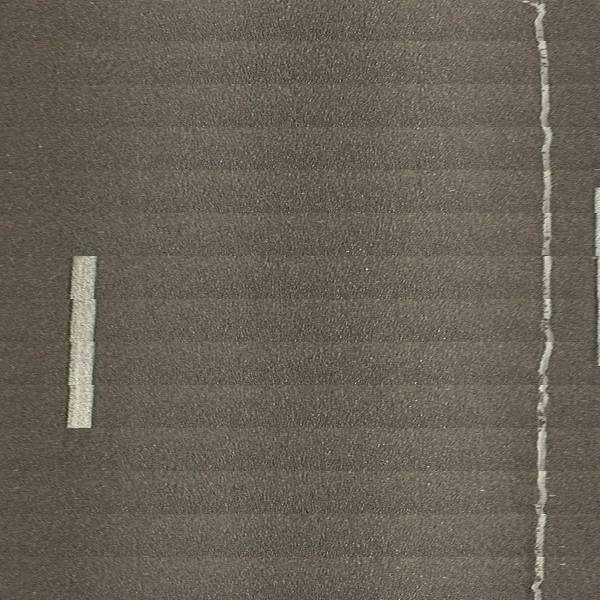road_damage: (525, 4, 560, 600)
